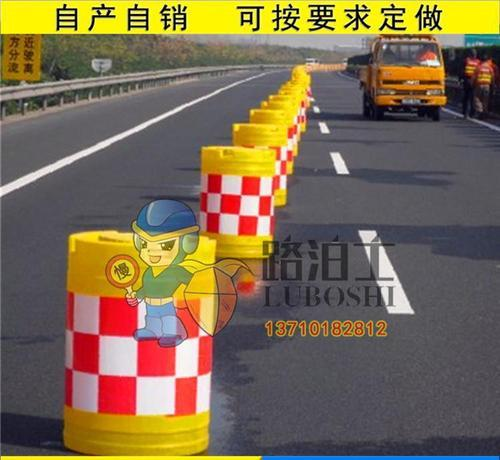sign: (54, 220, 229, 456), (195, 143, 280, 257)
